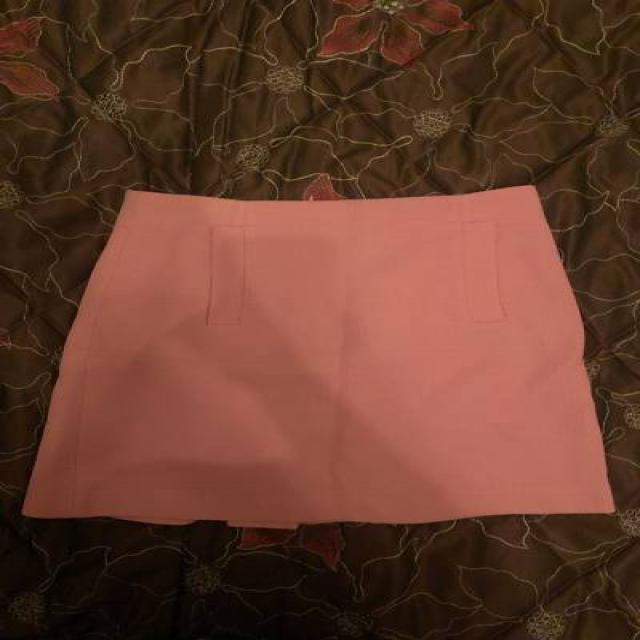Clothes -Biodegradable-: (23, 187, 617, 533)
